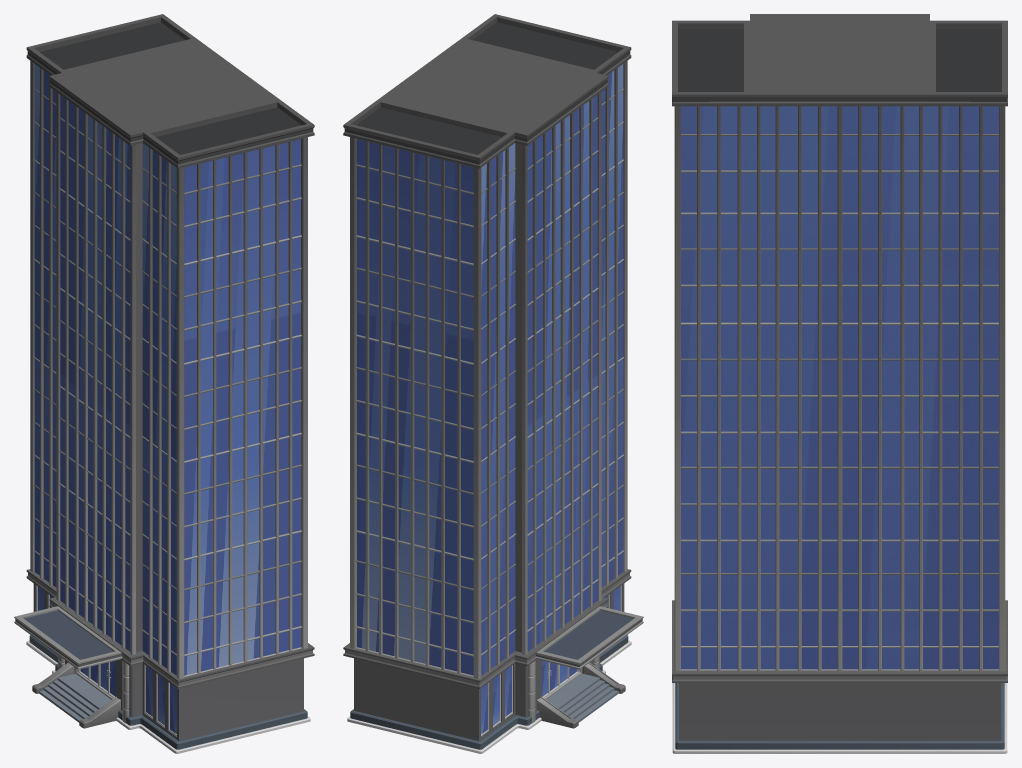
The model's file is Building_17_3_GG.fbx.
3 renders of one model, left to right at view 1: azimuth 30°, elevation 25°; view 2: azimuth 150°, elevation 25°; view 3: azimuth 270°, elevation 25°, orthographic. The views are drawn at different scales.
Visible parts, largest first — view 1: Building_17_3_GG; view 2: Building_17_3_GG; view 3: Building_17_3_GG.
Boxes of the visible parts, x1,y1,x2,y2 form: Building_17_3_GG: (14,14,314,753); Building_17_3_GG: (343,14,643,753); Building_17_3_GG: (672,14,1007,753).
Size of the model in its own units: 857 by 2536 by 1168.
